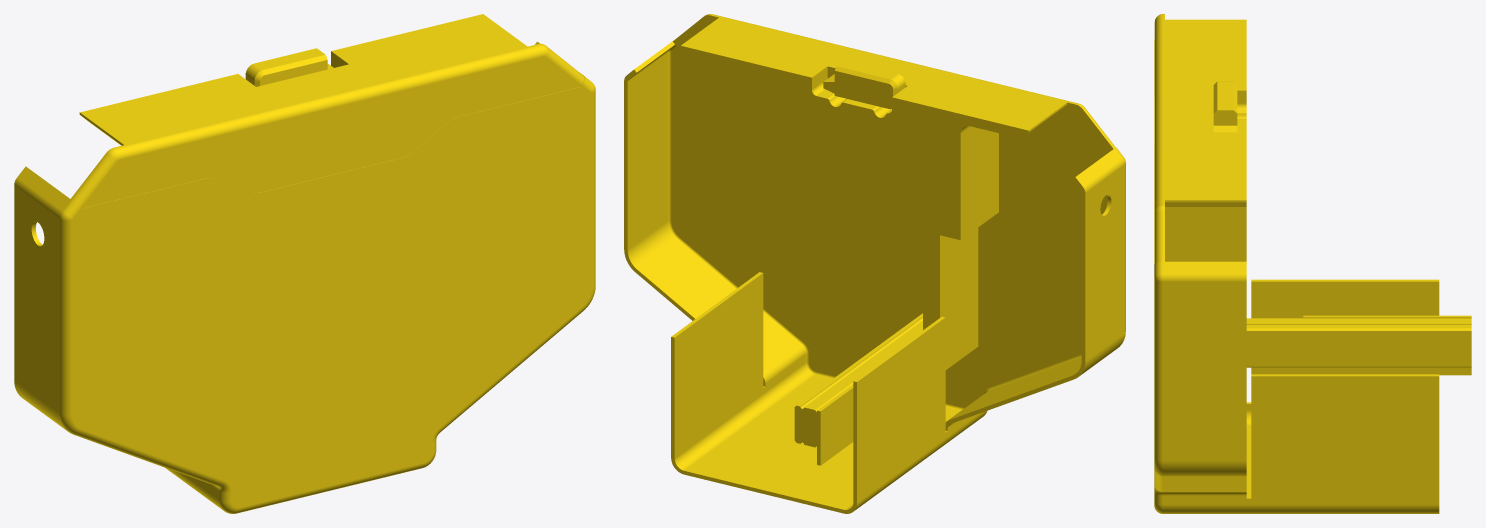
The model's file is VY2_SIMPLE_003.gltf.
3 views of the same model, side by side, from view 1: azimuth 30°, elevation 25°; view 2: azimuth 150°, elevation 25°; view 3: azimuth 270°, elevation 25° (orthographic). The views are drawn at different scales.
Parts seen in each view (by area): view 1: mesh489, mesh494, mesh521, mesh386, mesh498, mesh389, mesh394, mesh400, mesh412, mesh392, mesh480, mesh407 (+1 smaller); view 2: mesh473, mesh535, mesh521, mesh448, mesh418, mesh428, mesh456, mesh386, mesh452, mesh516, mesh514, mesh429 (+14 smaller); view 3: mesh422, mesh413, mesh521, mesh550, mesh432, mesh506, mesh404, mesh498, mesh412, mesh411, mesh538, mesh545 (+15 smaller).
Boxes of the visible parts, box(x1,y1,x2,y2) form: mesh489: box(72, 86, 591, 507); mesh494: box(82, 56, 581, 207); mesh521: box(80, 14, 538, 147); mesh386: box(14, 186, 59, 413); mesh498: box(115, 45, 543, 159); mesh389: box(60, 219, 72, 415); mesh394: box(75, 429, 224, 486); mesh400: box(238, 463, 424, 512); mesh412: box(591, 91, 595, 288); mesh392: box(17, 166, 70, 210); mesh480: box(71, 153, 117, 207); mesh407: box(439, 307, 583, 431); mesh473: box(671, 47, 1107, 407); mesh535: box(680, 46, 1028, 329); mesh521: box(681, 15, 1076, 130); mesh448: box(674, 273, 805, 458); mesh418: box(857, 317, 978, 502); mesh428: box(684, 375, 960, 509); mesh456: box(627, 53, 667, 249); mesh386: box(1085, 165, 1124, 361); mesh452: box(637, 240, 800, 371); mesh516: box(940, 228, 978, 369); mesh514: box(960, 126, 998, 239); mesh429: box(674, 363, 814, 470); mesh422: box(1163, 376, 1439, 504); mesh413: box(1163, 282, 1246, 460); mesh521: box(1163, 15, 1246, 204); mesh550: box(1246, 331, 1471, 366); mesh432: box(1246, 281, 1439, 409); mesh506: box(1165, 207, 1246, 261); mesh404: box(1163, 504, 1439, 513); mesh498: box(1154, 15, 1163, 210); mesh412: box(1154, 279, 1162, 460); mesh411: box(1163, 460, 1246, 476); mesh538: box(1303, 367, 1471, 375); mesh545: box(1246, 318, 1471, 323).
Size of the model in its own units: 0.1548 by 0.1126 by 0.0868.
